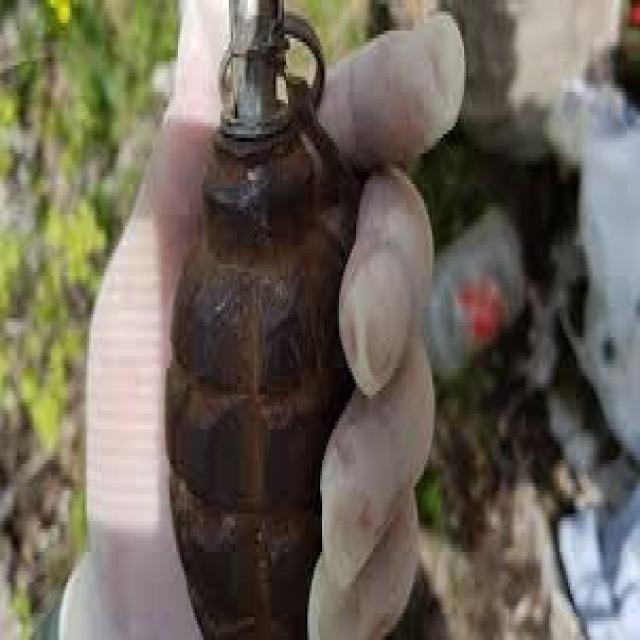grenade: (159, 1, 346, 640)
